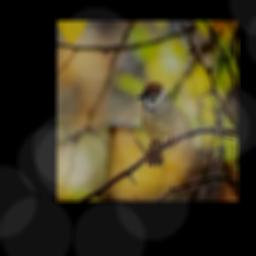Sparrow: (138, 83, 175, 165)
